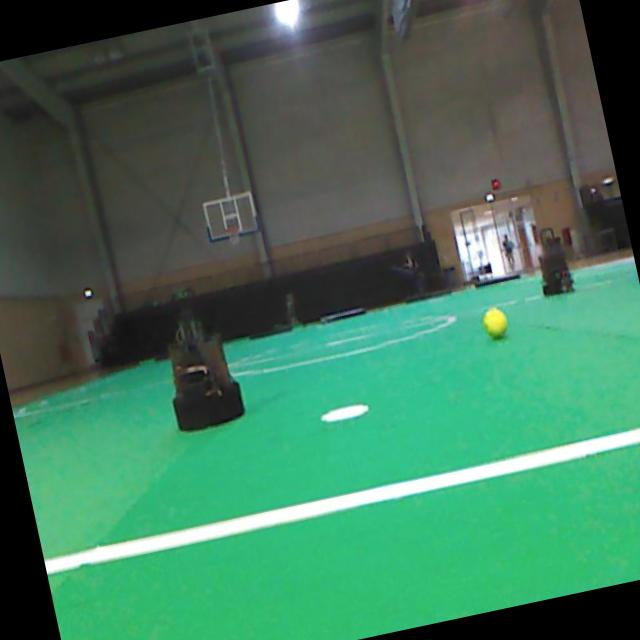ball: (482, 307, 506, 339)
robot: (168, 312, 243, 429), (538, 228, 573, 294)
